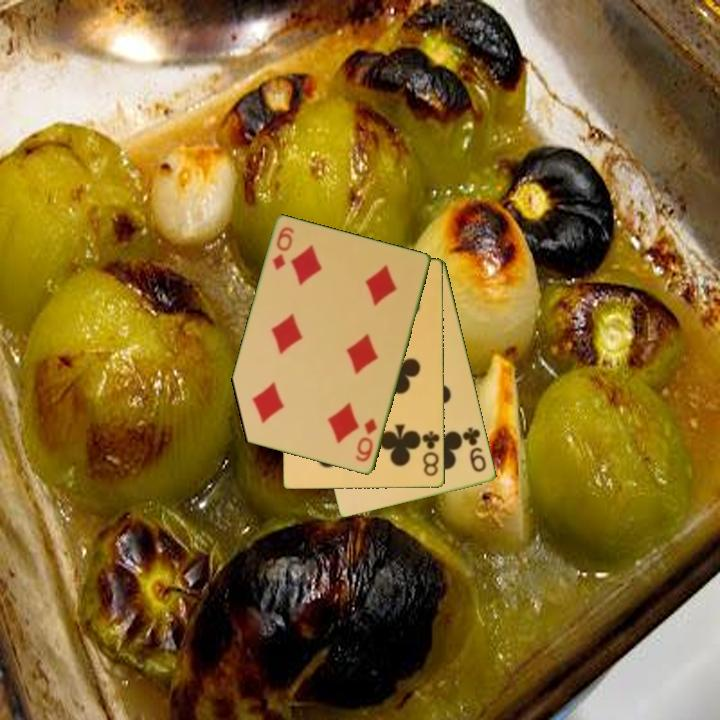6d: (352, 415, 380, 465), (269, 223, 297, 273)
8c: (419, 428, 443, 479)
9c: (459, 423, 489, 475)
